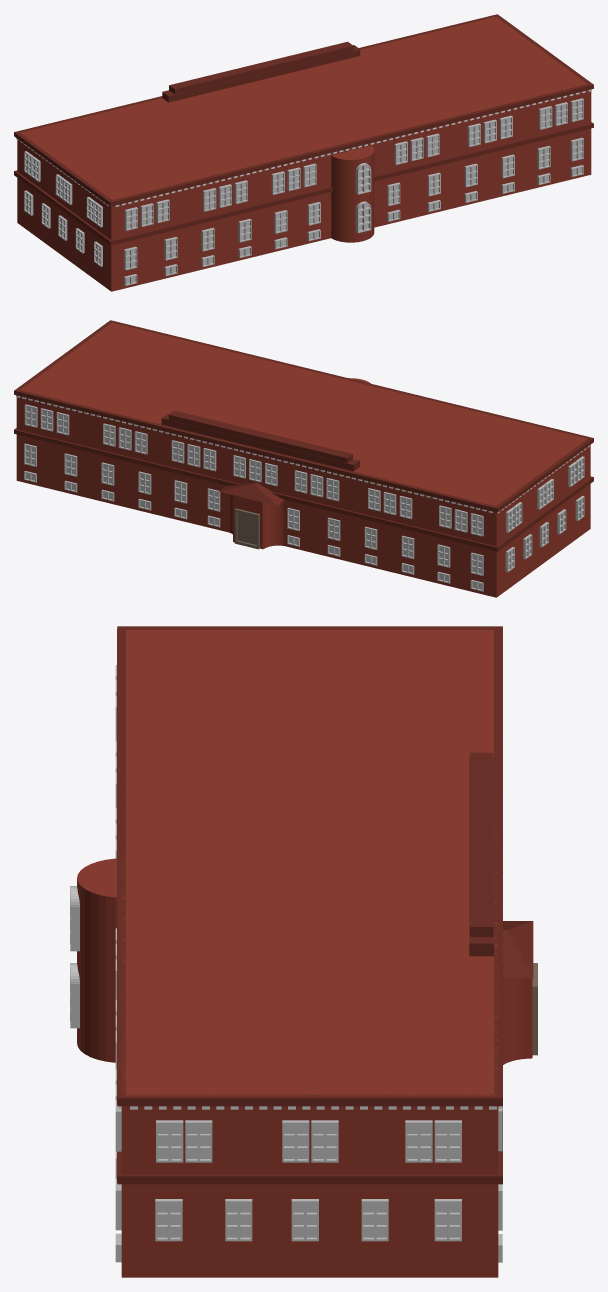
Rendered from gymnasiumfem.glb.
3 renders of one model, top to bottom at view 1: azimuth 30°, elevation 25°; view 2: azimuth 150°, elevation 25°; view 3: azimuth 270°, elevation 25°, orthographic. The views are drawn at different scales.
Parts seen in each view (by area): view 1: Cube.099, Cube.077, Cube.008, sukhariki; view 2: Cube.099, Cube.077, Cube.008, Cube.033, sukhariki.001, Cube.100; view 3: Cube.099, Cube.008, Cube.077, Cube.100, sukhariki.002.
Boxes of the visible parts, x1=… form: Cube.099: x1=17, y1=17, x2=591, y2=291; Cube.077: x1=24, y1=98, x2=583, y2=286; Cube.008: x1=14, y1=14, x2=593, y2=245; sukhariki: x1=115, y1=89, x2=591, y2=206; Cube.099: x1=16, y1=322, x2=590, y2=597; Cube.077: x1=24, y1=404, x2=584, y2=591; Cube.008: x1=14, y1=320, x2=593, y2=551; Cube.033: x1=234, y1=508, x2=259, y2=549; sukhariki.001: x1=16, y1=395, x2=492, y2=512; Cube.100: x1=219, y1=482, x2=284, y2=505; Cube.099: x1=77, y1=629, x2=532, y2=1277; Cube.008: x1=117, y1=626, x2=502, y2=1184; Cube.077: x1=70, y1=665, x2=502, y2=1262; Cube.100: x1=503, y1=921, x2=533, y2=978; sukhariki.002: x1=130, y1=1106, x2=496, y2=1109.
Size of the model in its own units: 5.05 by 1.02 by 2.11.
